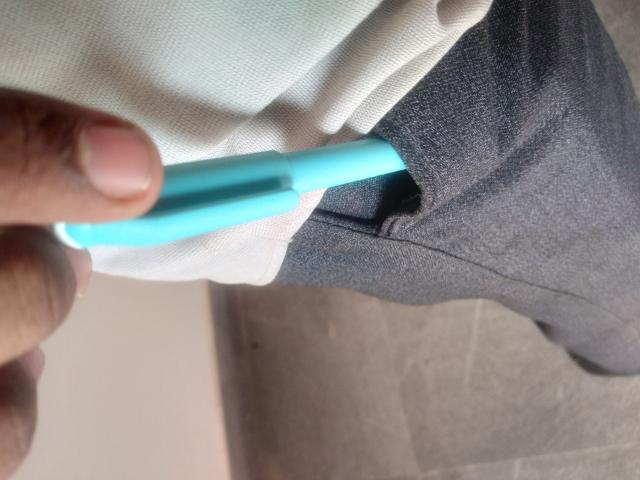PEN: (197, 65, 381, 437)
